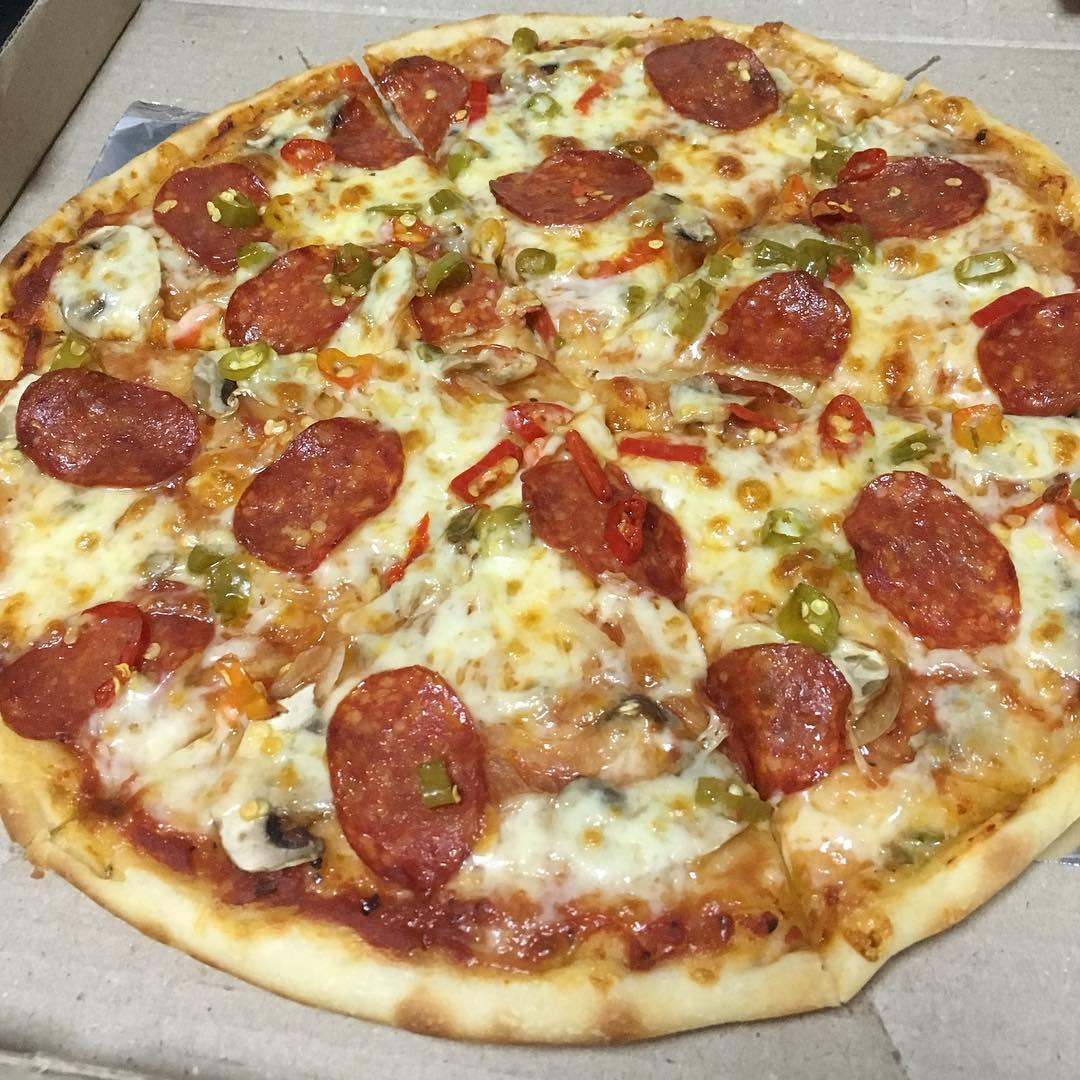Cheese: (52, 226, 162, 339), (421, 571, 517, 666), (517, 806, 665, 866)
Pepperoni: (328, 671, 490, 893), (0, 580, 219, 737), (855, 470, 1031, 647), (233, 415, 405, 576), (523, 460, 689, 606), (700, 647, 854, 794), (19, 368, 199, 487), (223, 243, 372, 350), (326, 55, 464, 170), (809, 154, 999, 235), (705, 270, 853, 372), (488, 145, 653, 230), (642, 35, 782, 132), (977, 289, 1080, 420), (154, 165, 271, 272)
Peppers: (449, 438, 522, 505), (776, 581, 848, 646), (751, 236, 873, 269), (693, 778, 778, 823), (820, 393, 875, 457), (604, 494, 650, 560), (617, 434, 709, 465), (504, 400, 575, 440), (673, 278, 713, 347), (953, 251, 1020, 284), (417, 758, 461, 808), (214, 340, 269, 379), (211, 189, 261, 226), (426, 252, 472, 292), (812, 136, 853, 179), (889, 430, 937, 462), (517, 248, 559, 284), (52, 333, 92, 368), (362, 199, 422, 220), (524, 92, 563, 122), (428, 187, 466, 215)
Pizza: (0, 20, 1080, 1047)
